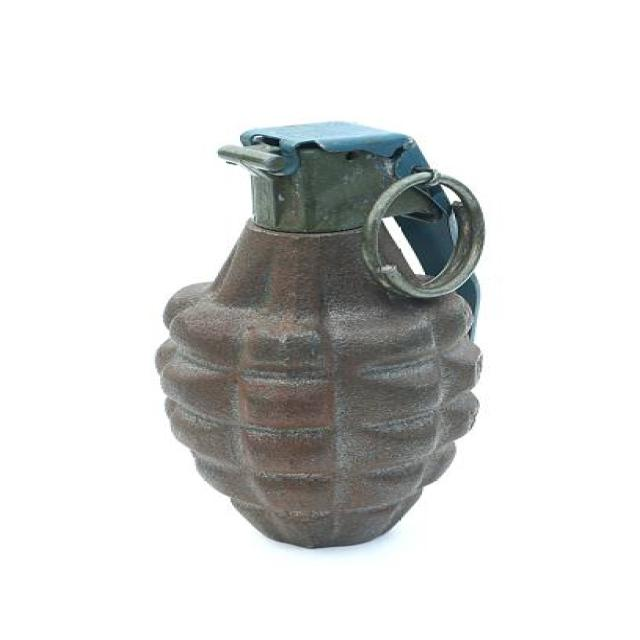grenade: (141, 115, 497, 555)
